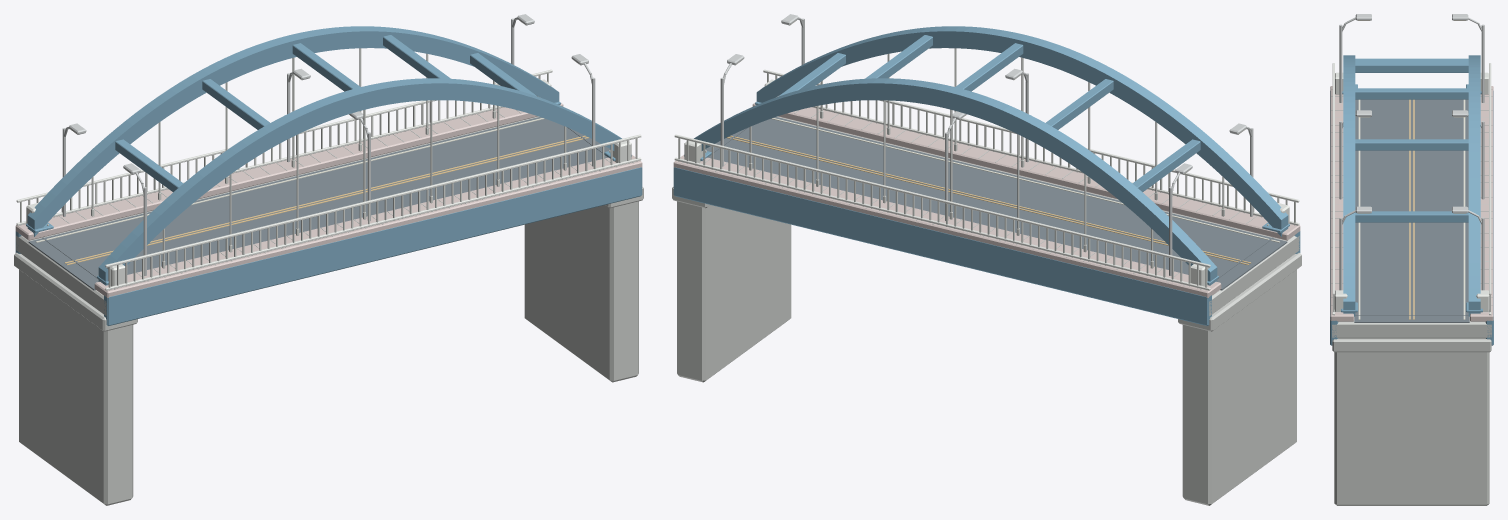
File: dingbao.glb
3 renders of one model, left to right at view 1: azimuth 30°, elevation 25°; view 2: azimuth 150°, elevation 25°; view 3: azimuth 270°, elevation 25°, orthographic. The views are drawn at different scales.
Parts seen in each view (by area): view 1: dingbao_concrete; view 2: dingbao_concrete; view 3: dingbao_concrete.
Part boxes in pixels (bbox=[...]): dingbao_concrete: bbox=[14, 14, 643, 505]; dingbao_concrete: bbox=[672, 14, 1301, 505]; dingbao_concrete: bbox=[1330, 14, 1493, 505].
Bounding box in the file's own units: 8.09 × 4.95 × 2.41.
Materials: 1 (1 with a texture image).
